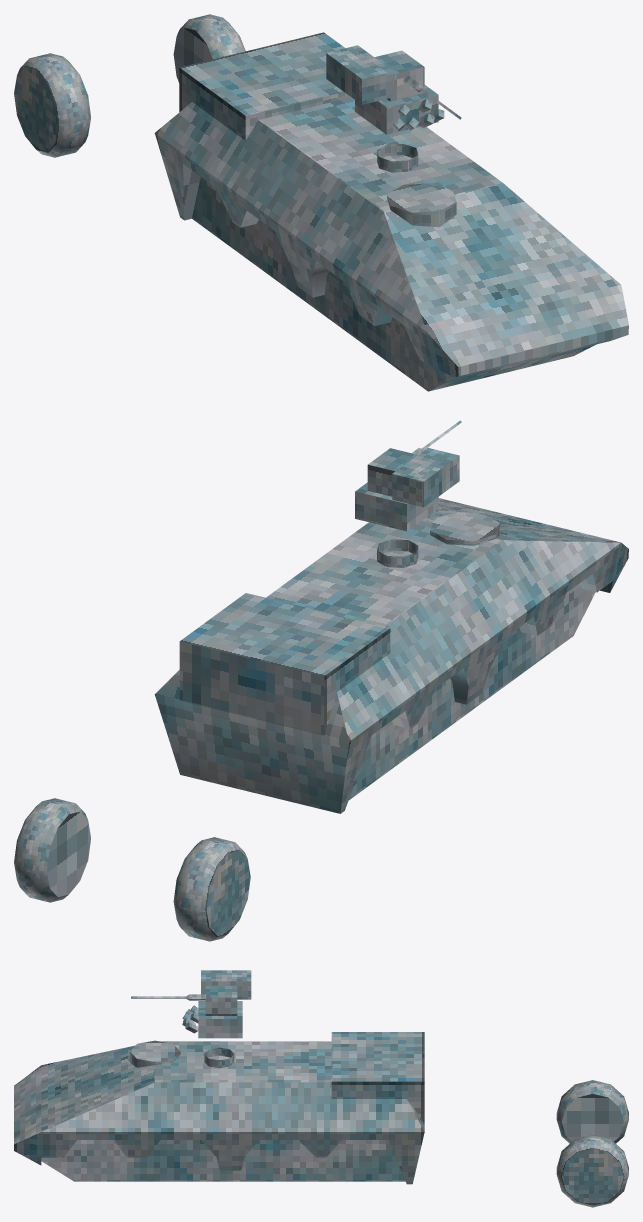
The model's file is APC.obj.
3 views of the same model, one above another, from view 1: azimuth 30°, elevation 25°; view 2: azimuth 150°, elevation 25°; view 3: azimuth 270°, elevation 25° (orthographic). The views are drawn at different scales.
Parts seen in each view (by area): view 1: polymsh; view 2: polymsh; view 3: polymsh.
Boxes of the visible parts, x1=… form: polymsh: x1=14, y1=14, x2=628, y2=391; polymsh: x1=14, y1=420, x2=628, y2=941; polymsh: x1=14, y1=970, x2=628, y2=1207.
Size of the model in its own units: 9.87 by 13.07 by 38.45.
